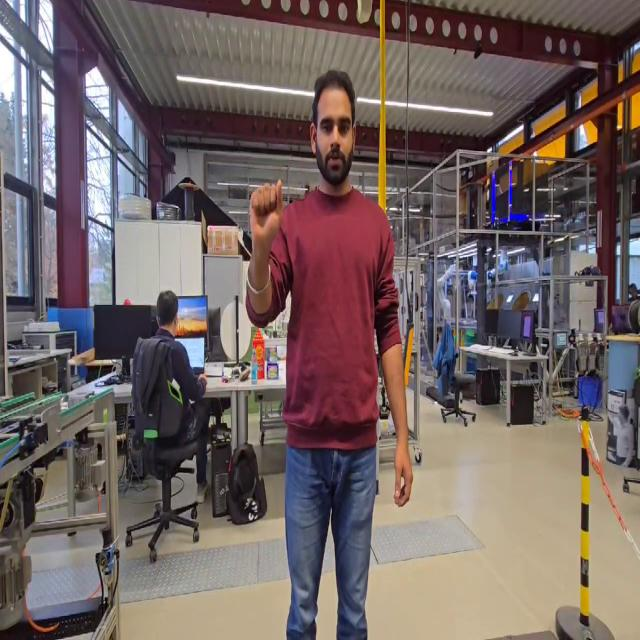closed_fist: (244, 173, 288, 246)
